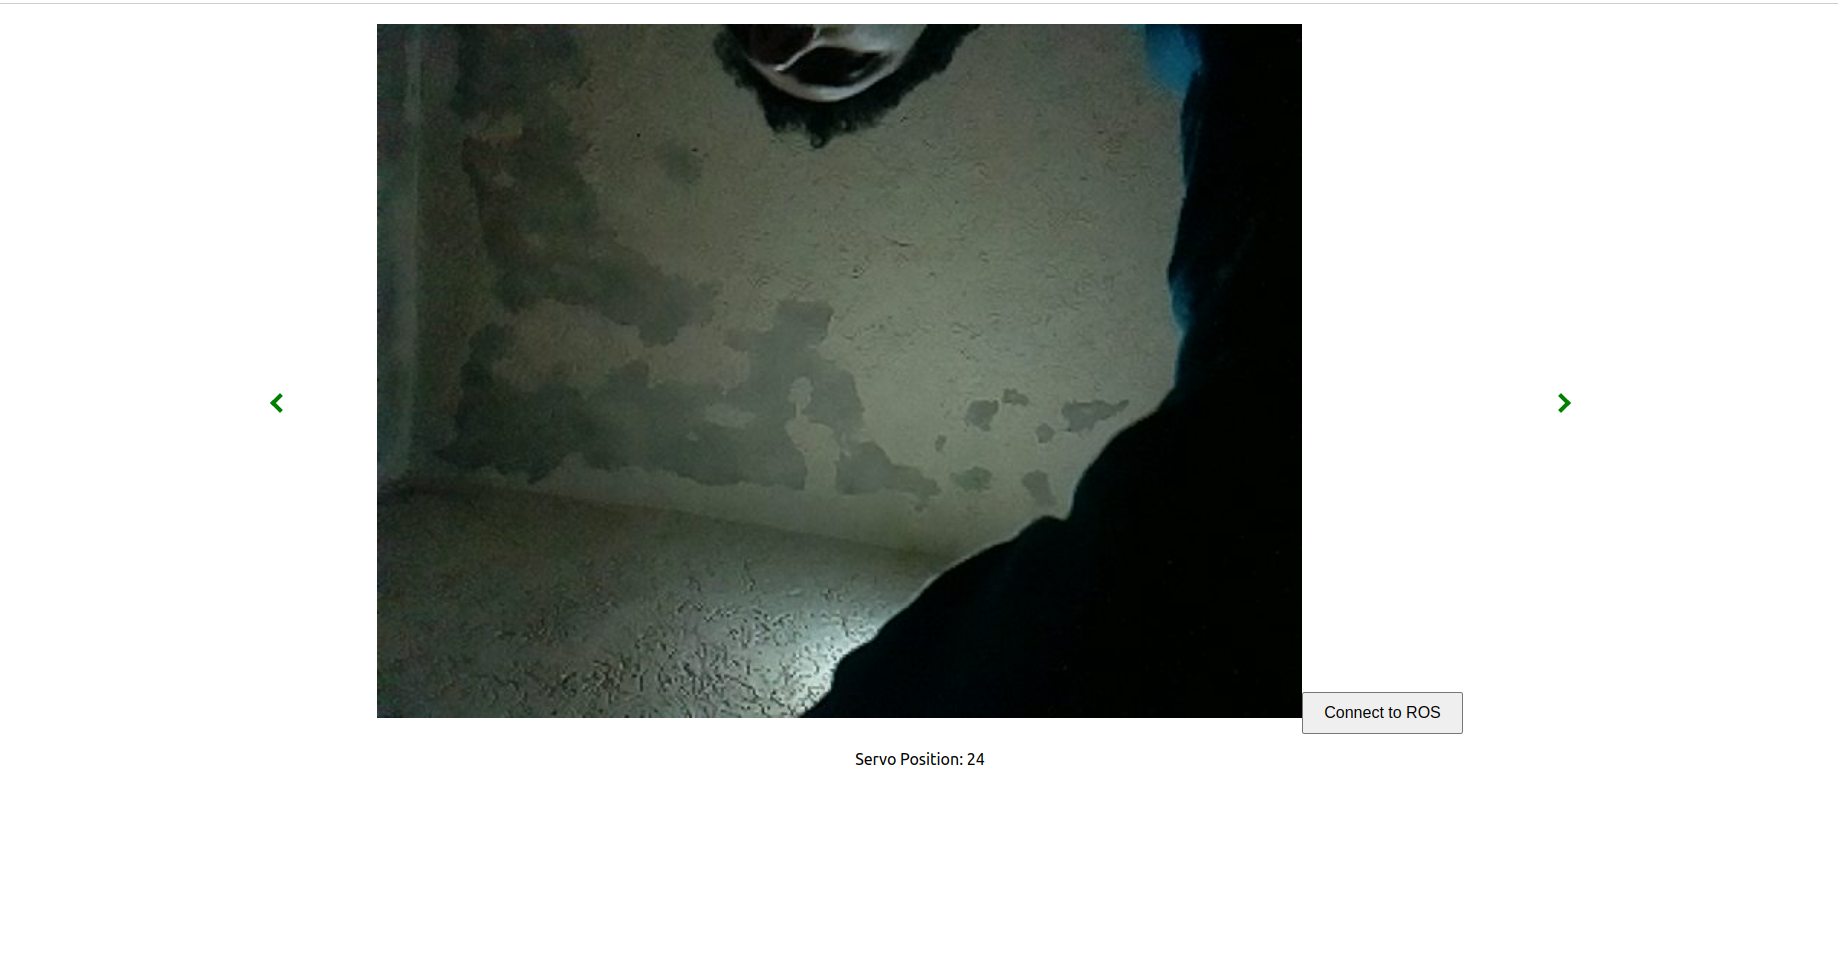bottles: (613, 118, 1201, 502)
